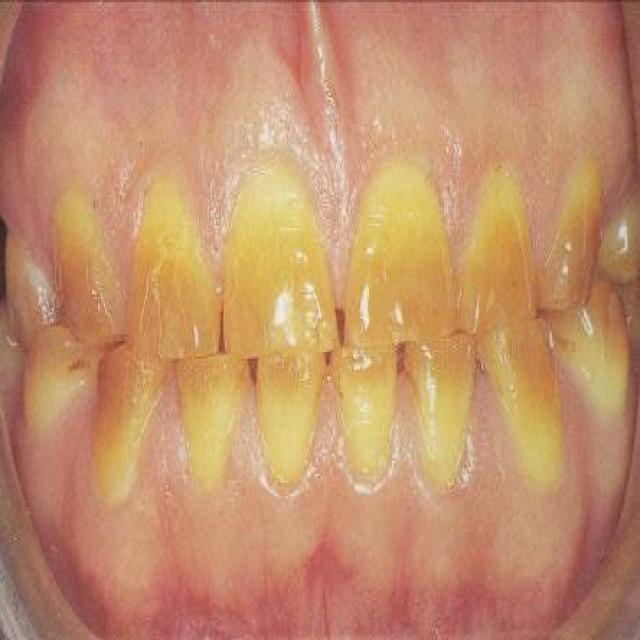LL1BC_sdecay: (547, 277, 631, 427)
LLCI_sdecay: (331, 345, 399, 484)
LLC_sdecay: (481, 324, 570, 498)
LLLI_sdecay: (405, 339, 477, 493)
LR1BC_mdecay: (22, 325, 97, 434)
LRCI_sdecay: (254, 356, 328, 498)
LRC_sdecay: (85, 345, 169, 515)
LRLI_sdecay: (175, 358, 247, 495)
ULCI_sdecay: (342, 160, 453, 346)
ULC_sdecay: (540, 153, 607, 313)
ULLI_sdecay: (456, 167, 539, 332)
URCI_sdecay: (220, 160, 338, 356)
URC_sdecay: (48, 186, 127, 347)
URLI_sdecay: (121, 170, 218, 356)
